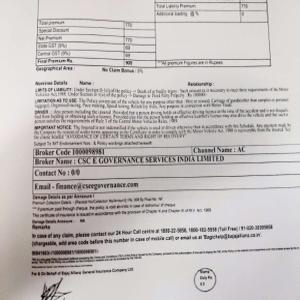table: (37, 1, 268, 66), (34, 145, 300, 190)
text: (34, 66, 292, 145), (31, 192, 279, 241)
